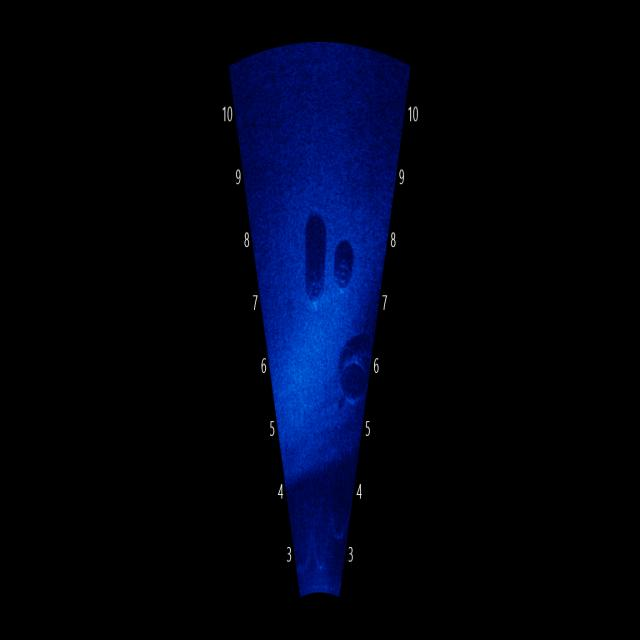circle: (337, 343, 368, 410), (304, 256, 326, 312), (331, 255, 354, 291)
